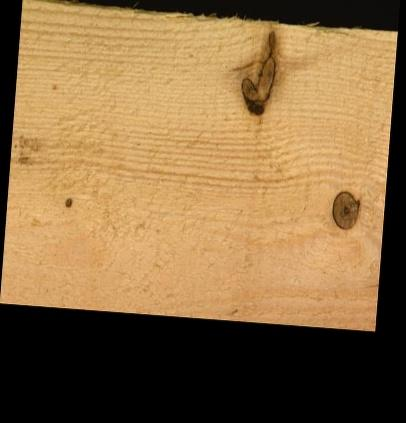dry_knot: (330, 188, 361, 229)
small_knot: (62, 194, 74, 208)
